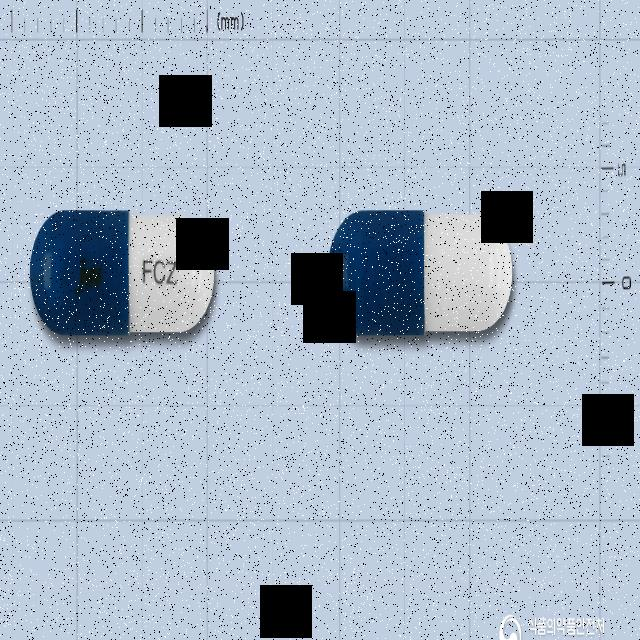Oneflu Cap: (30, 208, 216, 338)
